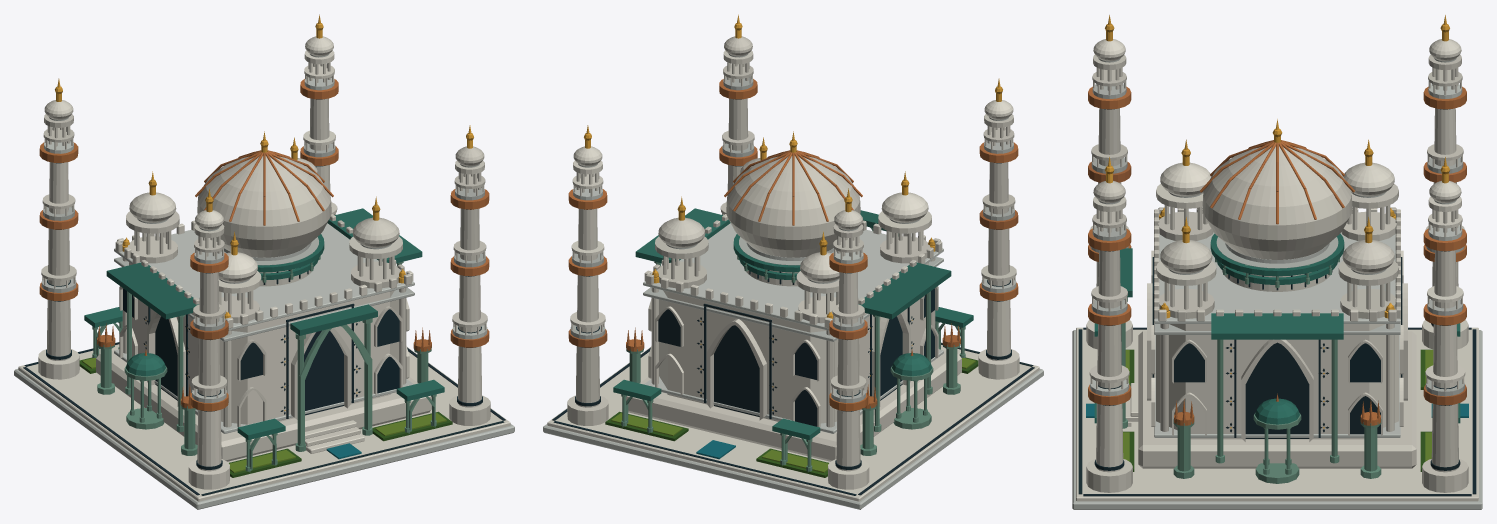
3 views of the same model, side by side, from view 1: azimuth 30°, elevation 25°; view 2: azimuth 150°, elevation 25°; view 3: azimuth 270°, elevation 25° (orthographic). The views are drawn at different scales.
Visible parts, largest first — view 1: fort_L9_0, fort_L9_1; view 2: fort_L9_0, fort_L9_1; view 3: fort_L9_0, fort_L9_1.
Boxes of the visible parts, bbox=[...] form: fort_L9_0: bbox=[14, 23, 514, 509]; fort_L9_1: bbox=[39, 14, 489, 411]; fort_L9_0: bbox=[543, 23, 1043, 509]; fort_L9_1: bbox=[568, 14, 1018, 411]; fort_L9_0: bbox=[1072, 24, 1482, 509]; fort_L9_1: bbox=[1088, 15, 1466, 428].
Bounding box in the file's own units: 7.6 × 6.93 × 7.6.
